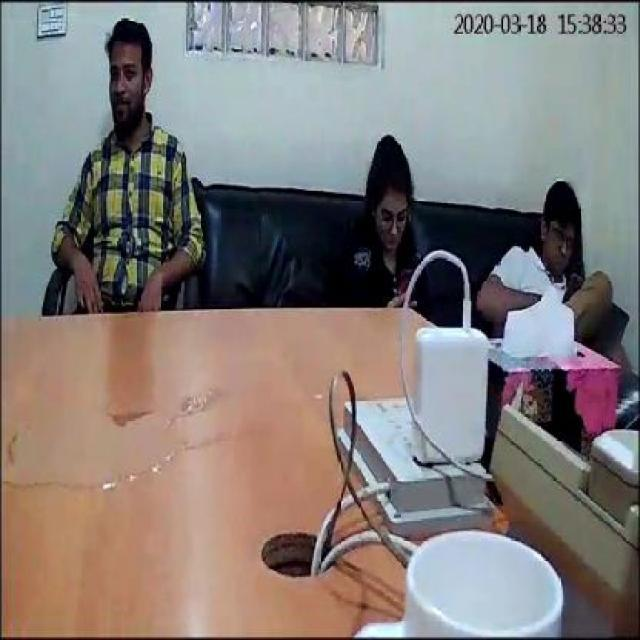spill: (2, 388, 225, 490)
